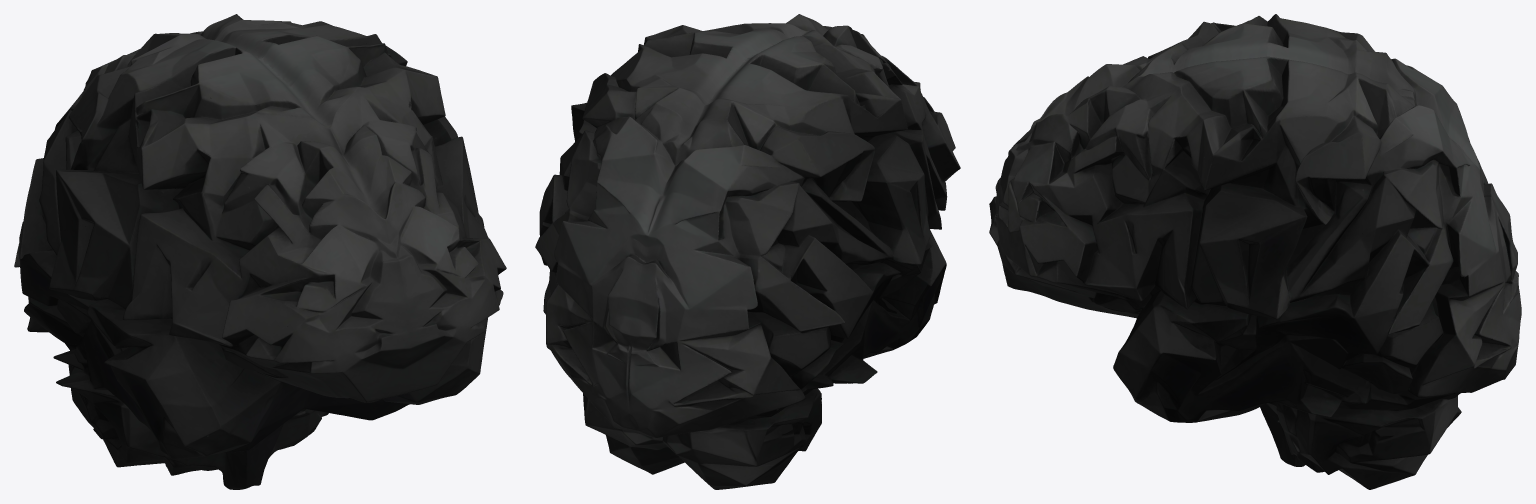
The model's file is supavoxel-brain-groove.glb.
The picture shows the model from 3 angles, left to right: view 1: azimuth 30°, elevation 25°; view 2: azimuth 150°, elevation 25°; view 3: azimuth 270°, elevation 25°; orthographic projection. The views are drawn at different scales.
Bounding box in the file's own units: 0.818 × 0.85 × 1.
Materials: 1 (1 with a texture image).
